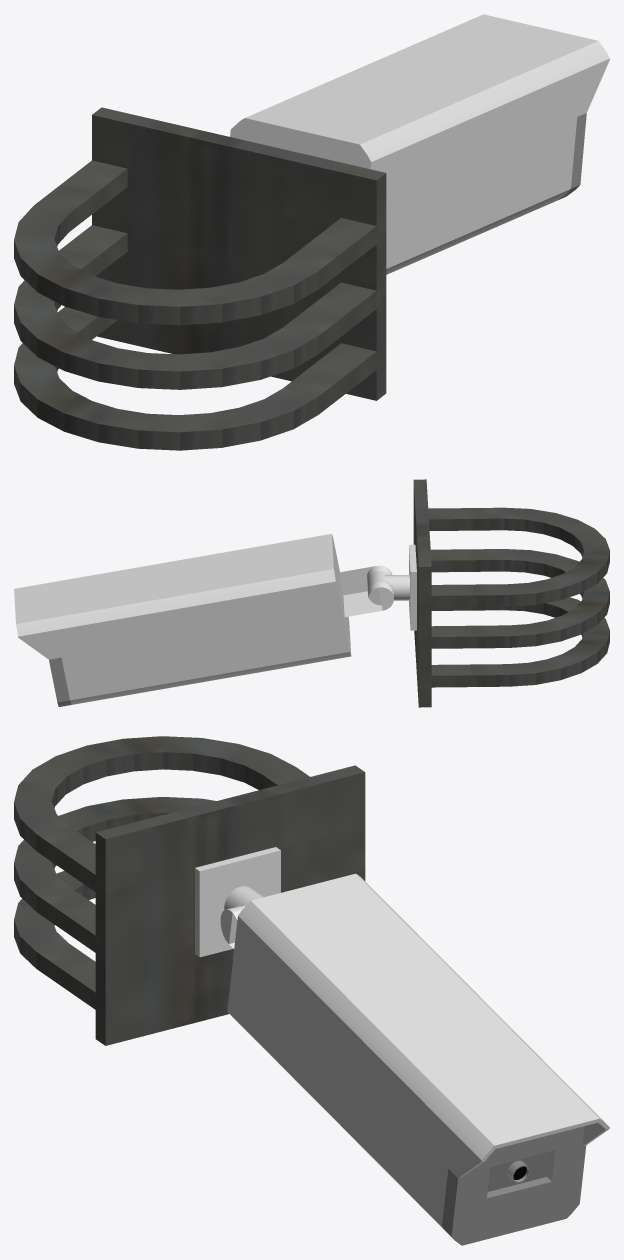
Rendered from camera-ocr.glb.
3 views of the same model, one above another, from view 1: azimuth 30°, elevation 25°; view 2: azimuth 150°, elevation 25°; view 3: azimuth 270°, elevation 25° (orthographic). The views are drawn at different scales.
Visible parts, largest first — view 1: Componente_16_1, Componente_1_1, Al_a1, Al_a3, Al_a2, Componente_9_1; view 2: Componente_16_1, Al_a1, Al_a3, Al_a2, Componente_1_1, Componente_12_1, Componente_11_1, Componente_9_1; view 3: Componente_16_1, Componente_1_1, Al_a1, Componente_9_1, Al_a3, Componente_11_1, Al_a2.
Boxes of the visible parts, x1,y1,x2,y2 form: Componente_16_1: [230, 14, 609, 274]; Componente_1_1: [92, 107, 386, 400]; Al_a1: [14, 160, 376, 325]; Al_a3: [14, 225, 376, 389]; Al_a2: [14, 306, 376, 450]; Componente_9_1: [557, 113, 586, 200]; Componente_16_1: [14, 533, 351, 704]; Al_a1: [428, 507, 609, 607]; Al_a3: [430, 549, 609, 648]; Al_a2: [431, 597, 609, 687]; Componente_1_1: [413, 479, 431, 707]; Componente_12_1: [339, 565, 393, 617]; Componente_11_1: [367, 544, 416, 630]; Componente_9_1: [49, 657, 71, 706]; Componente_16_1: [227, 873, 609, 1229]; Componente_1_1: [95, 765, 365, 1045]; Al_a1: [14, 736, 309, 891]; Componente_9_1: [442, 1126, 586, 1245]; Al_a3: [14, 797, 216, 952]; Componente_11_1: [195, 847, 280, 957]; Al_a2: [14, 871, 95, 1009].
Size of the model in its own units: 0.423 by 0.1377 by 0.3134.
7 materials, 1 textured.
